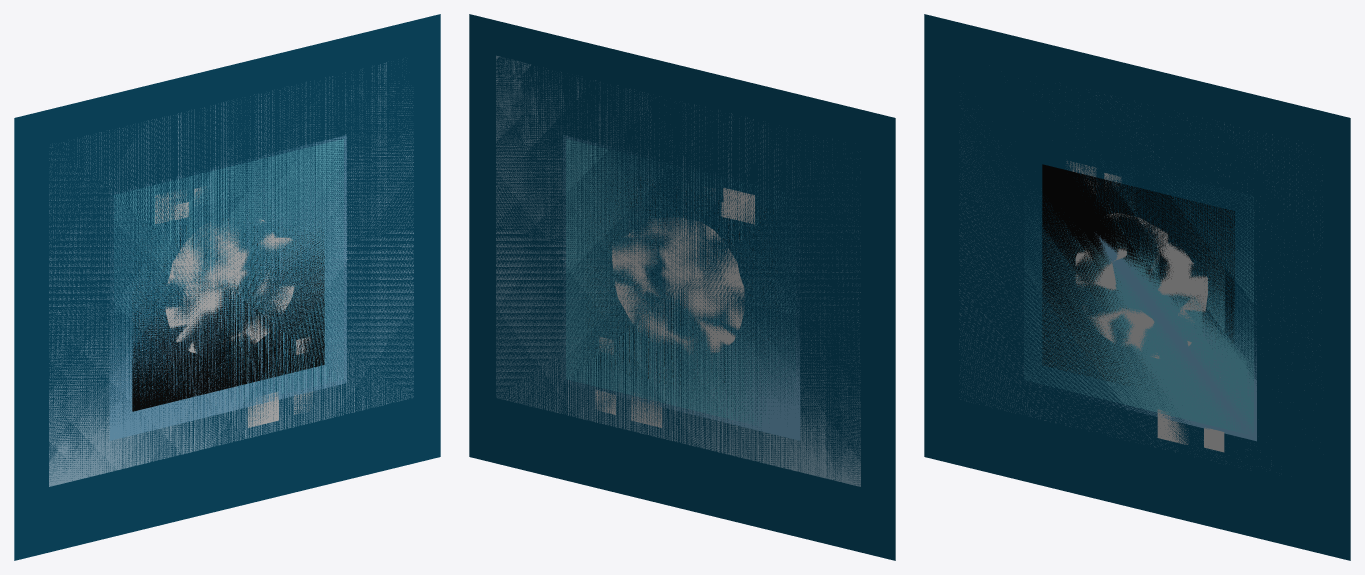
Rendered from Skeleton Prefab Mesh _Eb_Wisp_02_.glb.
The picture shows the model from 3 angles, left to right: view 1: azimuth 30°, elevation 25°; view 2: azimuth 150°, elevation 25°; view 3: azimuth 330°, elevation 25°; orthographic projection.
Visible parts, largest first — view 1: Skeleton Prefab Mesh "Eb_Wisp_02"; view 2: Skeleton Prefab Mesh "Eb_Wisp_02"; view 3: Skeleton Prefab Mesh "Eb_Wisp_02".
Part boxes in pixels (left/top/right/bottom): Skeleton Prefab Mesh "Eb_Wisp_02": left=14, top=14, right=440, bottom=560; Skeleton Prefab Mesh "Eb_Wisp_02": left=469, top=14, right=895, bottom=560; Skeleton Prefab Mesh "Eb_Wisp_02": left=924, top=14, right=1350, bottom=560.
Size of the model in its own units: 6.05 by 6.01 by 0.
